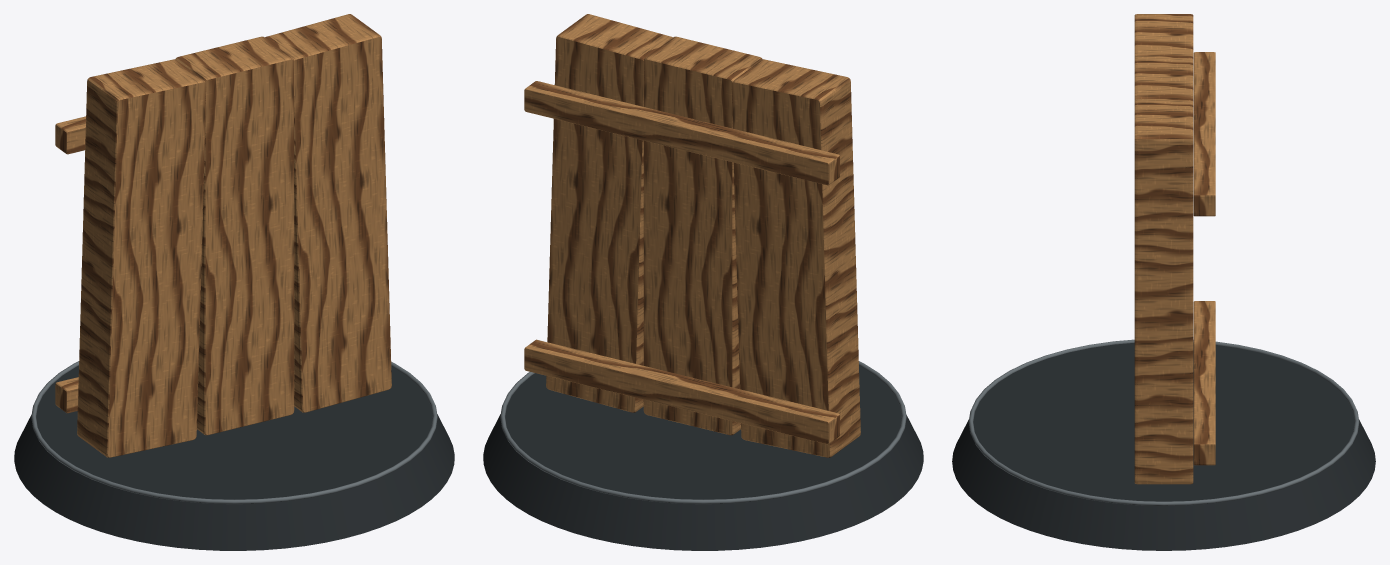
3 views of the same model, side by side, from view 1: azimuth 30°, elevation 25°; view 2: azimuth 150°, elevation 25°; view 3: azimuth 270°, elevation 25° (orthographic). The views are drawn at different scales.
Visible parts, largest first — view 1: surface specimen, neutral specimen stand, specimen edge; view 2: surface specimen, neutral specimen stand, specimen edge; view 3: neutral specimen stand, surface specimen, specimen edge.
Boxes of the visible parts, left/top/right/bottom form: surface specimen: left=55, top=14, right=391, bottom=457; neutral specimen stand: left=14, top=365, right=454, bottom=550; specimen edge: left=31, top=361, right=437, bottom=504; surface specimen: left=524, top=14, right=860, bottom=457; neutral specimen stand: left=483, top=365, right=923, bottom=550; specimen edge: left=500, top=361, right=906, bottom=504; neutral specimen stand: left=952, top=343, right=1375, bottom=550; surface specimen: left=1134, top=14, right=1215, bottom=484; specimen edge: left=968, top=339, right=1359, bottom=505.
Size of the model in its own units: 0.54 by 0.5433 by 0.54.
3 materials, 1 textured.
